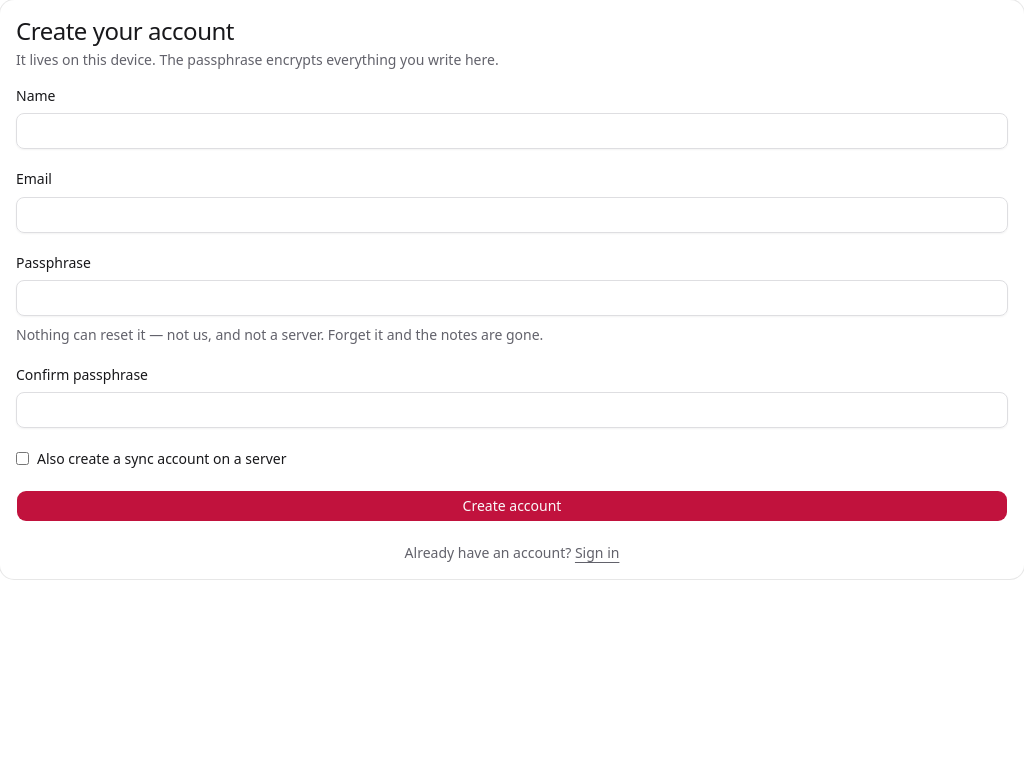
Test: SignupForm › asks for every field when submitted empty
The width and height of the screenshot is (1024, 768).
What coordinates should you click on to do the following:
click the button "Create account"
I would click on:
 (512, 506)
Its box is x1=16 y1=490 x2=1008 y2=522.
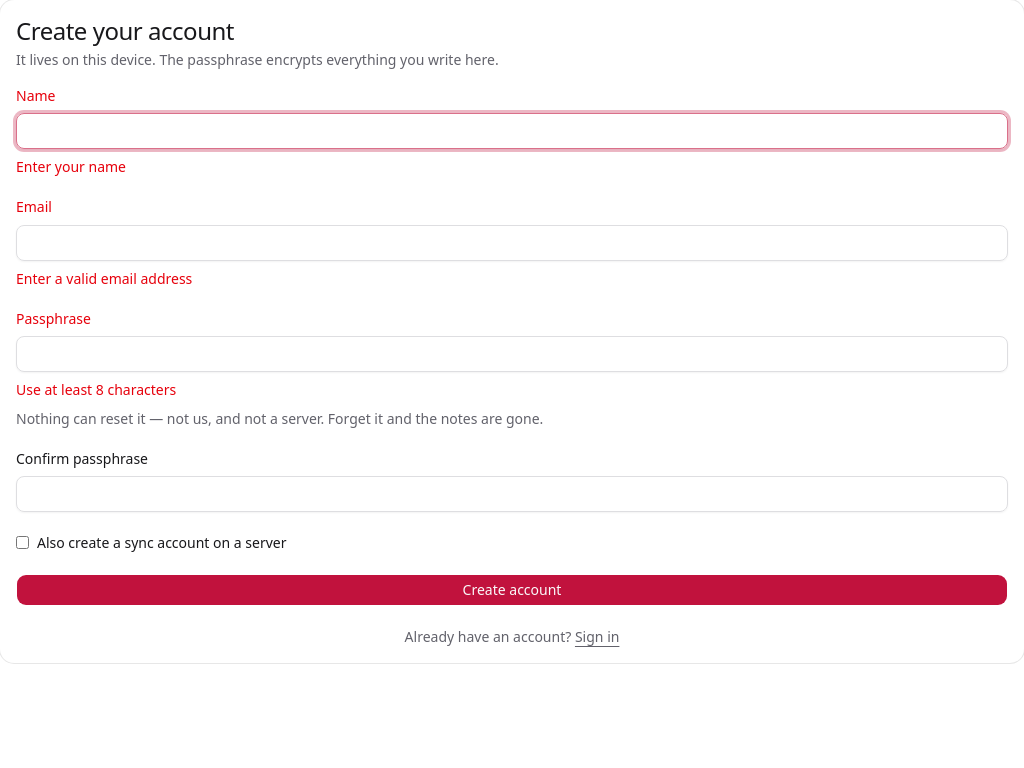
Check: the text "Enter your name" is shown, box x1=16 y1=157 x2=126 y2=176
Check: the text "Enter a valid email address" is shown, box x1=16 y1=268 x2=192 y2=288
Check: the text "Use at least 8 characters" is shown, box x1=16 y1=380 x2=176 y2=399
